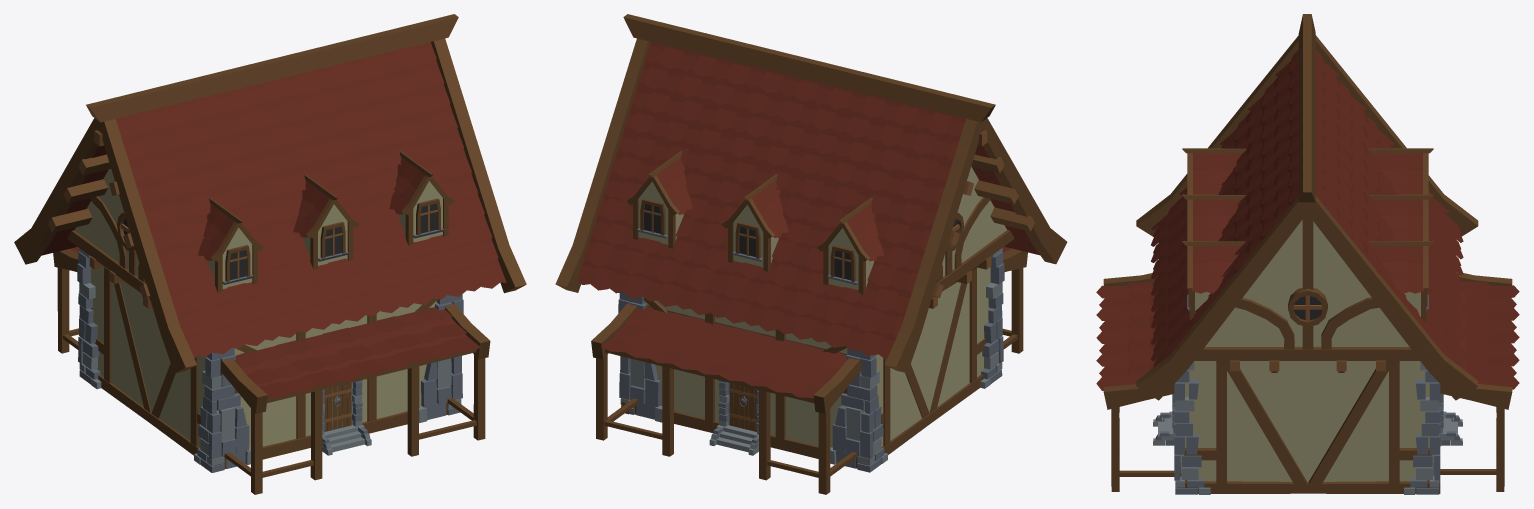
File: Inn.glb
3 renders of one model, left to right at view 1: azimuth 30°, elevation 25°; view 2: azimuth 150°, elevation 25°; view 3: azimuth 270°, elevation 25°, orthographic.
Parts seen in each view (by area): view 1: Inn; view 2: Inn; view 3: Inn.
Part boxes in pixels (x1,y1,x2,y2): Inn: [14, 14, 526, 494]; Inn: [555, 14, 1067, 494]; Inn: [1096, 14, 1519, 494].
Bounding box in the file's own units: 4.03 × 3.49 × 4.02.
Materials: 1 (1 with a texture image).
